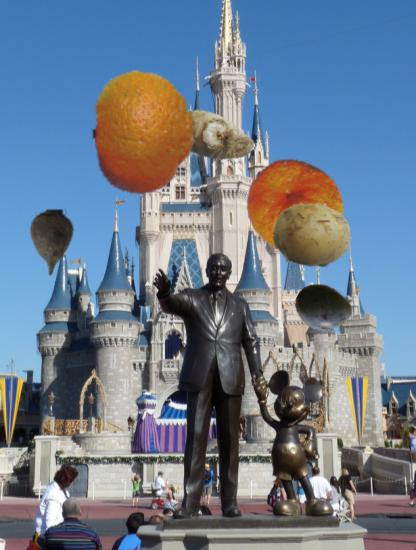Beetroot: (18, 208, 86, 276)
Ginger: (173, 95, 256, 178)
Mandarine: (81, 70, 207, 196), (245, 156, 346, 257)
Plum: (295, 280, 352, 337)
Potato: (272, 193, 354, 275)
